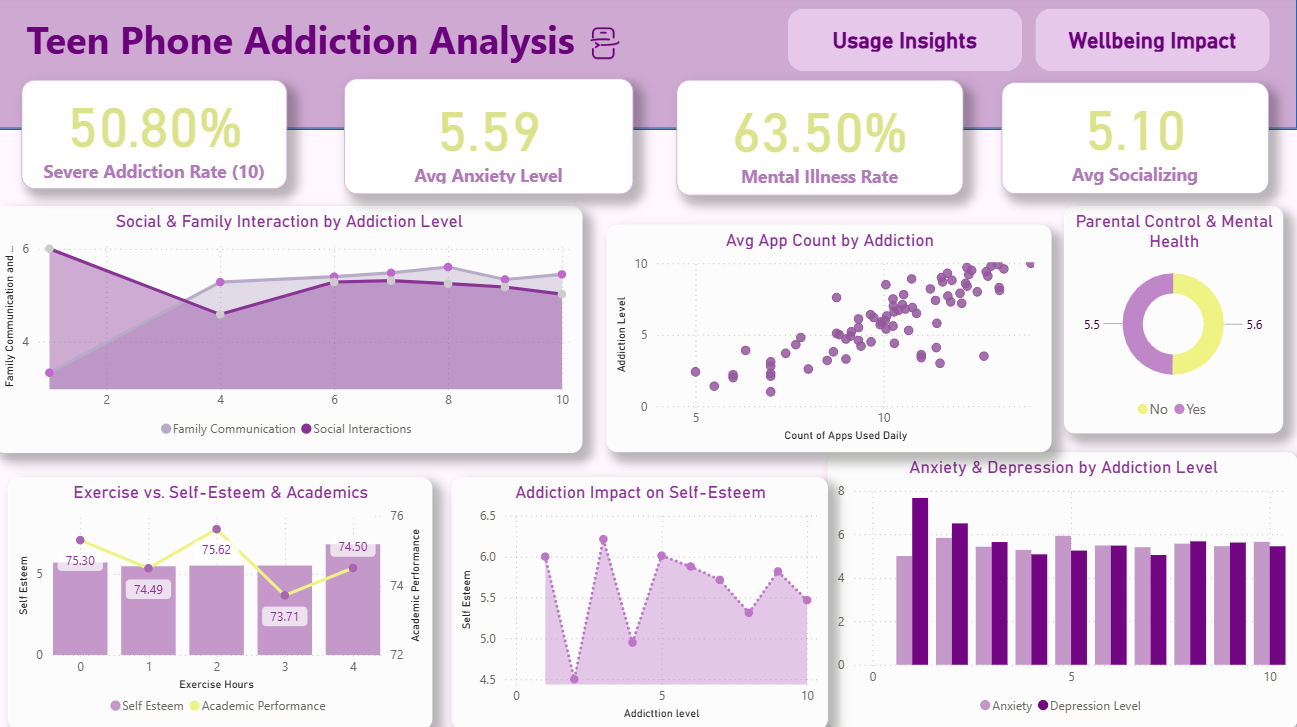

This screenshot's page, from the dashboard's own definition file:
{"tool":"powerbi","page":{"name":"Wellbeing Impact","canvas":[1280,720],"ordinal":1},"visuals":[{"type":"shape","box":[0,0,1280.3,131.3],"z":0},{"type":"clusteredColumnChart","title":"Anxiety & Depression by Addiction Level","fields":{"Category":["teen_phone_addiction_dataset (2).Rounded_Addicttion_level"],"Y":["Avg(teen_phone_addiction_dataset (2).Anxiety_Level)","Avg(teen_phone_addiction_dataset (2).Rounded_Depression_Level)"]},"box":[818.8,448,461.5,272],"z":1000},{"type":"areaChart","title":"Addiction Impact on Self-Esteem","fields":{"Category":["teen_phone_addiction_dataset (2).Rounded_Addicttion_level"],"Y":["Avg(teen_phone_addiction_dataset (2).Rounded_Self_Esteem)"]},"box":[449.3,472.3,369.5,247.7],"z":2000},{"type":"scatterChart","title":"Avg App Count by Addiction","fields":{"X":["Avg(teen_phone_addiction_dataset (2).Apps_Used_Daily)"],"Y":["teen_phone_addiction_dataset (2).Addiction_Level"]},"box":[600.9,224.7,437.1,223.3],"z":3000},{"type":"areaChart","title":"Social & Family Interaction by Addiction Level","fields":{"Category":["teen_phone_addiction_dataset (2).Rounded_Addicttion_level"],"Y":["Avg(teen_phone_addiction_dataset (2).Rounded_Family_Communication)","Avg(teen_phone_addiction_dataset (2).Rounded_Social_Interactions)"]},"box":[0,205.7,577.9,242.3],"z":4000},{"type":"donutChart","title":"Parental Control & Mental Health","fields":{"Category":["teen_phone_addiction_dataset (2).Parental_Control"],"Y":["Avg(teen_phone_addiction_dataset (2).Mental_Health_Issue_Level)"]},"box":[1050.2,205.7,215.2,223.3],"z":5000},{"type":"lineStackedColumnComboChart","title":"Exercise vs. Self-Esteem & Academics","fields":{"Category":["teen_phone_addiction_dataset (2).Rounded ex houres"],"Y":["Avg(teen_phone_addiction_dataset (2).Self_Esteem)"],"Y2":["Avg(teen_phone_addiction_dataset (2).Academic_Performance)"]},"box":[13.5,472.3,416.8,247.7],"z":6000},{"type":"card","fields":{"Values":["UsageHoursSim.Avg_Anxiety_Level"]},"box":[343.8,81.2,284.2,113.7],"z":7000},{"type":"card","fields":{"Values":["teen_phone_addiction_dataset (2).Percent_Severe_Addiction"]},"box":[27.1,82.6,261.2,106.9],"z":8000},{"type":"card","fields":{"Values":["UsageHoursSim.Percent_High_Mental_Health_Issue"]},"box":[669.9,82.6,281.5,113.7],"z":9000},{"type":"card","fields":{"Values":["UsageHoursSim.Avg Socializing"]},"box":[989.3,85.3,262.6,109.6],"z":10000},{"type":"textbox","box":[26.8,12,655.5,91],"z":11000},{"type":"image","box":[568.6,20.1,60.2,53.5],"z":12000},{"type":"actionButton","box":[778.6,12,230.1,61.5],"z":13000},{"type":"actionButton","box":[1022.1,12,230.1,61.5],"z":14000}]}

Visuals, with their boxes in screenshot pixels (x1, y1, x2, y2), scaled from the page's 1280x720 canvas onto the 1297x727 screenshot:
shape: region(0, 0, 1296, 133)
"Anxiety & Depression by Addiction Level" clusteredColumnChart: region(830, 452, 1296, 726)
"Addiction Impact on Self-Esteem" areaChart: region(455, 477, 830, 726)
"Avg App Count by Addiction" scatterChart: region(609, 227, 1052, 452)
"Social & Family Interaction by Addiction Level" areaChart: region(0, 208, 586, 452)
"Parental Control & Mental Health" donutChart: region(1064, 208, 1282, 433)
"Exercise vs. Self-Esteem & Academics" lineStackedColumnComboChart: region(14, 477, 436, 726)
card - UsageHoursSim.Avg_Anxiety_Level: region(348, 82, 636, 197)
card - teen_phone_addiction_dataset (2).Percent_Severe_Addiction: region(27, 83, 292, 191)
card - UsageHoursSim.Percent_High_Mental_Health_Issue: region(679, 83, 964, 198)
card - UsageHoursSim.Avg Socializing: region(1002, 86, 1269, 197)
textbox: region(27, 12, 691, 104)
image: region(576, 20, 637, 74)
actionButton: region(789, 12, 1022, 74)
actionButton: region(1036, 12, 1269, 74)
